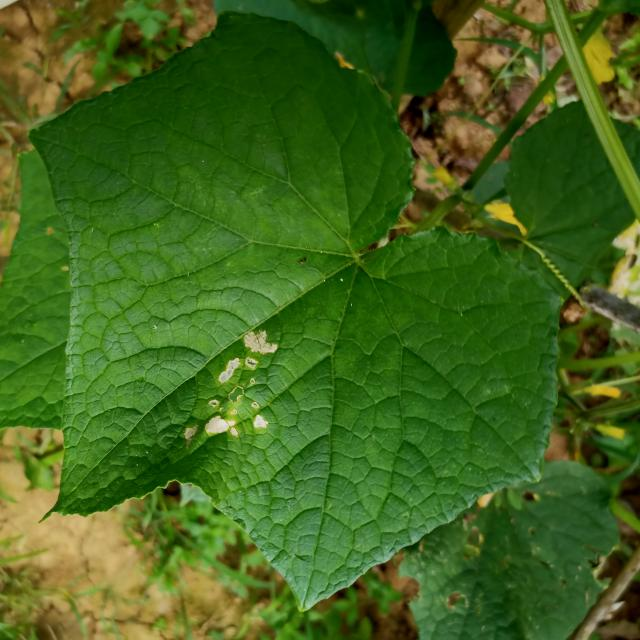disease_cucumber: (180, 314, 288, 450)
